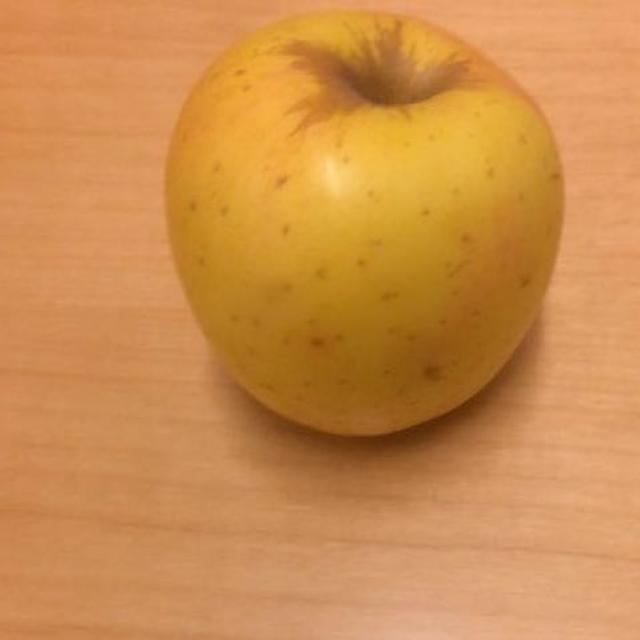apple: (166, 23, 559, 428)
